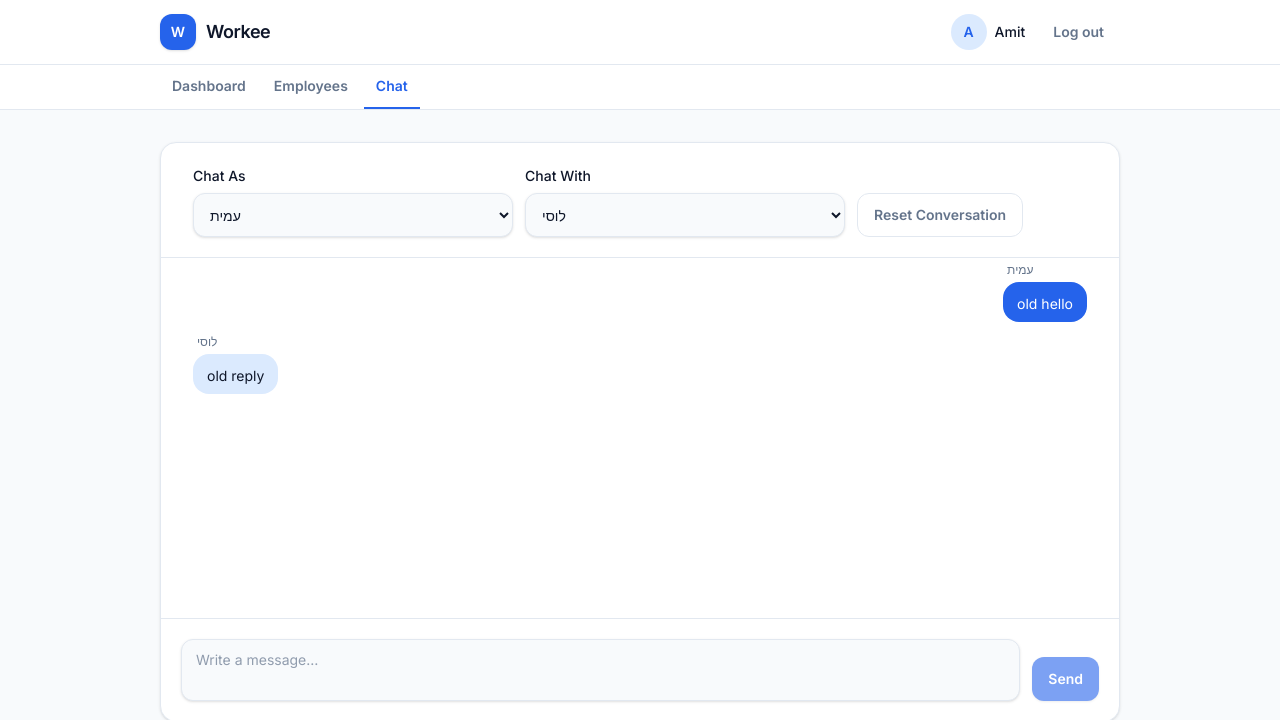
it: Chat page › resets the dialog to a new conversation
expect the text "old hello" is shown: met, box [1017, 292, 1073, 316]
What coordinates should you click on to do the following:
click the button "Reset Conversation"
I would click on:
 (940, 215)
Its box is [857, 193, 1023, 237].
(page scrolled)
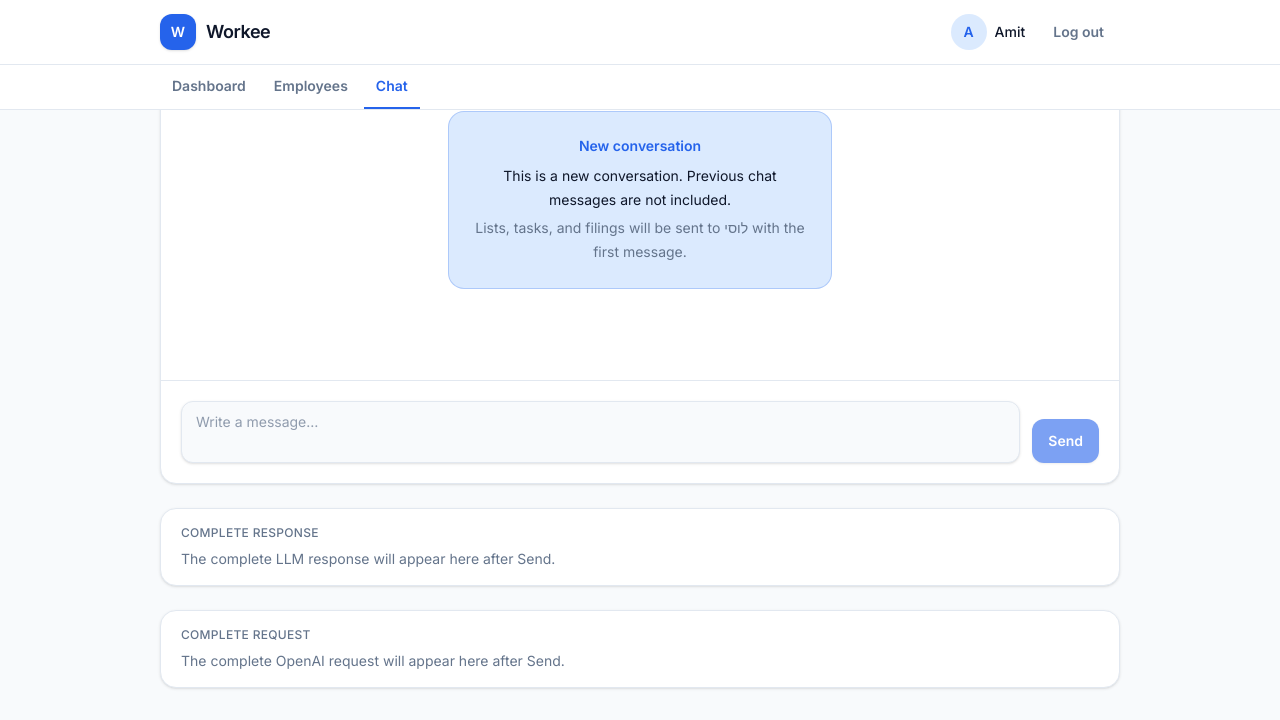
expect the element with test id "new-conversation" shows "New conversation": met, box [579, 137, 701, 154]
expect the text "old hello" is gone: met
expect the text "old reply" is gone: met
